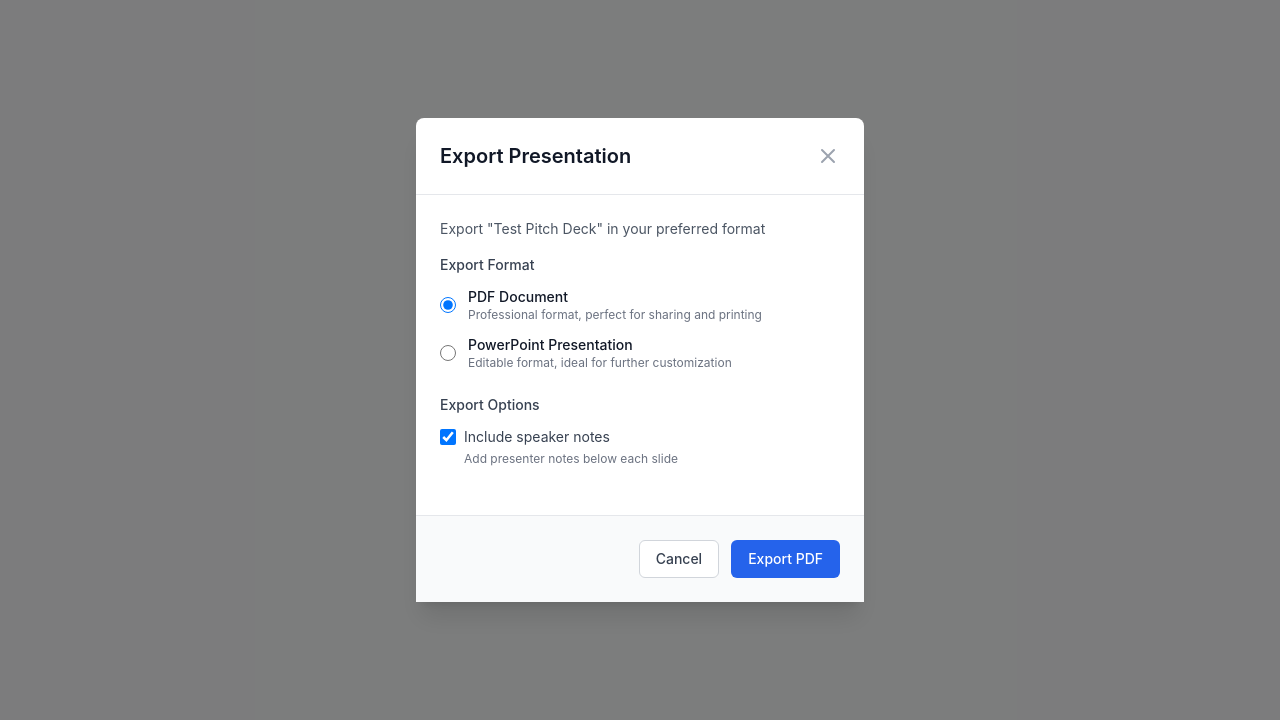
Test: ExportModal › shows error state when export fails
Click the button "Export PDF" at (786, 559), box [731,540,840,578]
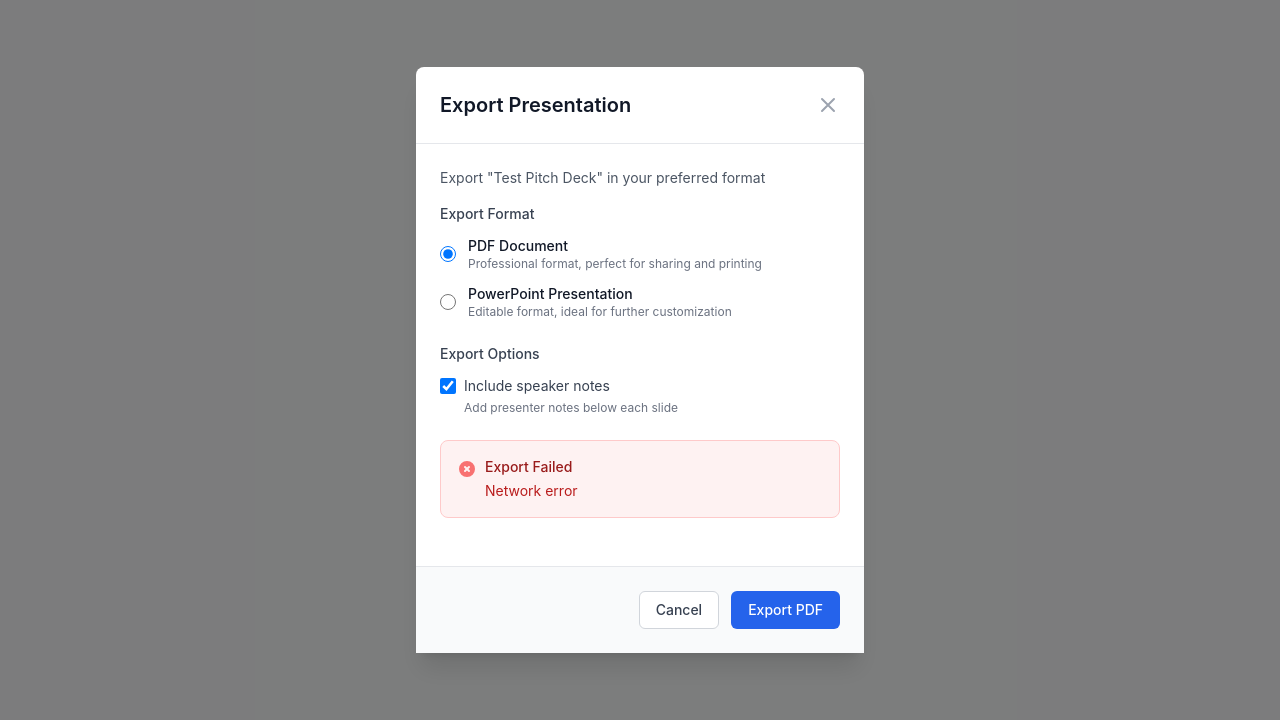
Now the heading "Export Failed" is shown, box [485,457,578,477]
Now the text "Network error" is shown, box [485,481,578,501]
